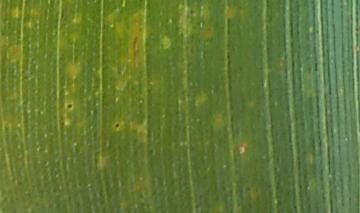tarspot: (64, 101, 77, 112), (113, 120, 121, 131)
